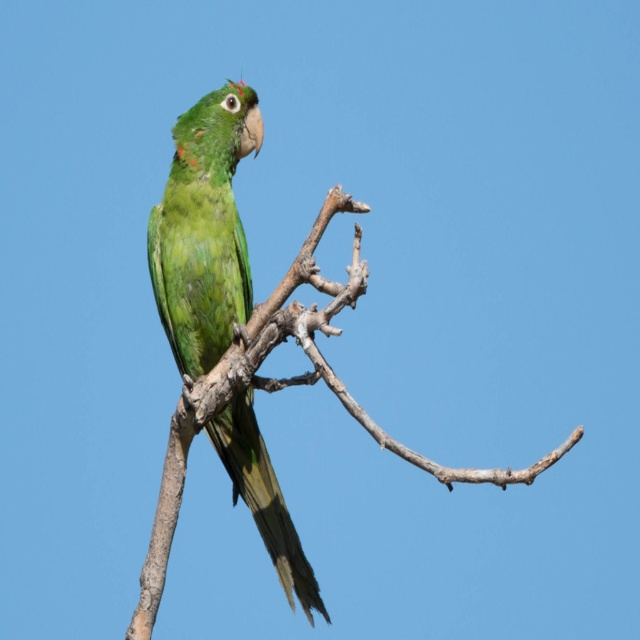Parrot: (134, 58, 338, 629)
